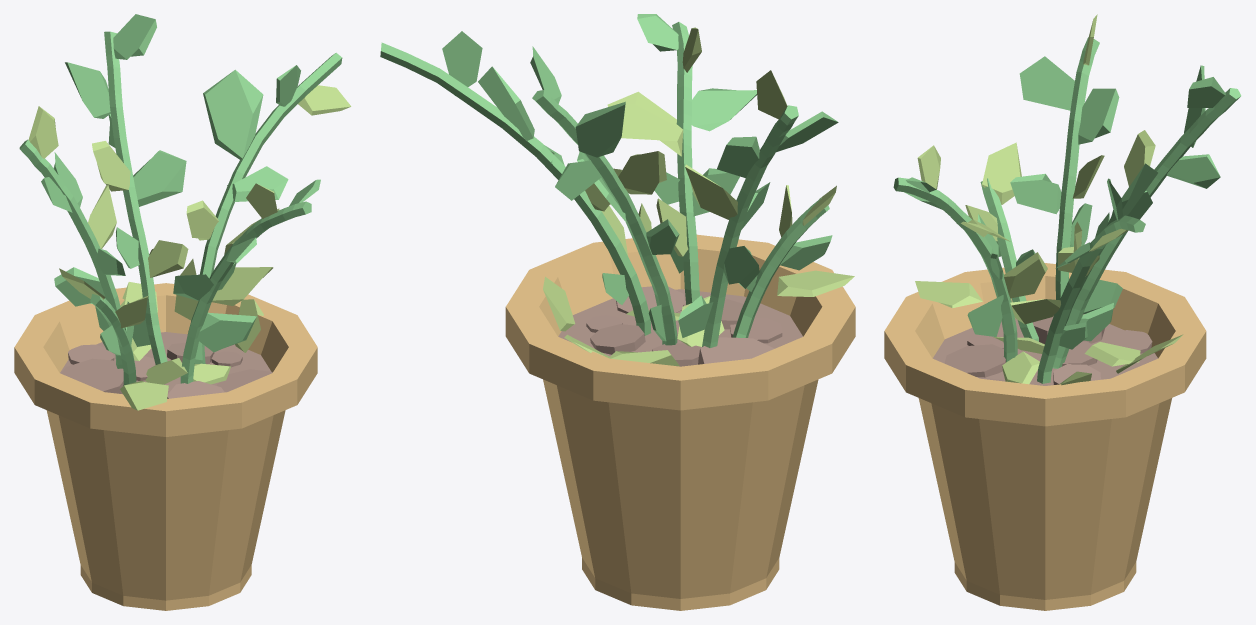
Rendered from plant.fbx.
3 renders of one model, left to right at view 1: azimuth 30°, elevation 25°; view 2: azimuth 150°, elevation 25°; view 3: azimuth 270°, elevation 25°, orthographic. The views are drawn at different scales.
Visible parts, largest first — view 1: group1430211780; view 2: group1430211780; view 3: group1430211780.
Boxes of the visible parts, <box> form: group1430211780: <box>14,14,351,610</box>; group1430211780: <box>380,14,855,610</box>; group1430211780: <box>884,14,1241,610</box>.
Size of the model in its own units: 25.25 by 33.93 by 21.07.
